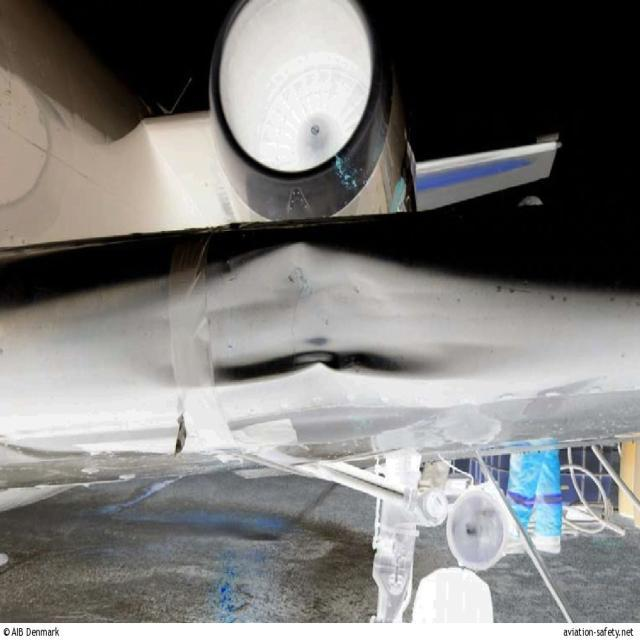dent: (148, 246, 455, 394)
